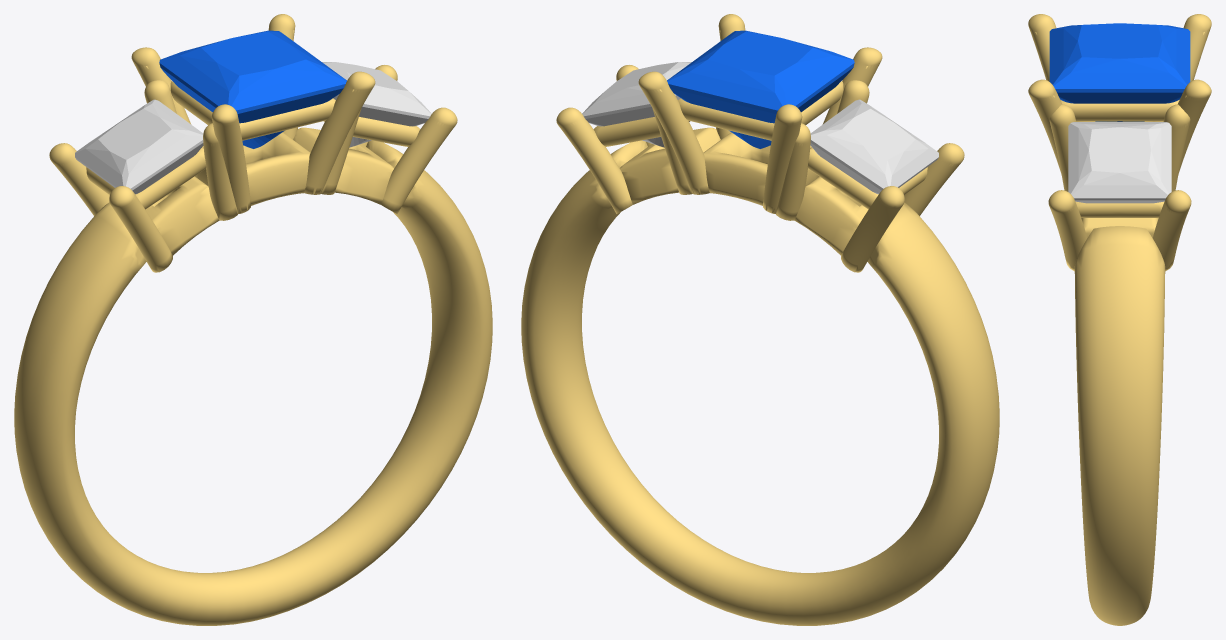
File: bluesapphire-princess-yellowgold-4prong-taperedband-3stone.glb
3 renders of one model, left to right at view 1: azimuth 30°, elevation 25°; view 2: azimuth 150°, elevation 25°; view 3: azimuth 270°, elevation 25°, orthographic.
Visible parts, largest first — view 1: metal, stone, side, side.001; view 2: metal, stone, side, side.001; view 3: metal, stone, side.001.
Part boxes in pixels (x1,y1,x2,y2): metal: (14,14,492,625); stone: (159,30,346,148); side: (75,99,203,194); side.001: (322,62,431,147); metal: (521,14,999,625); stone: (667,30,854,148); side: (810,99,938,194); side.001: (582,62,691,147); metal: (1028,14,1211,625); stone: (1049,23,1190,121); side.001: (1068,122,1171,203).
Size of the model in its own units: 20.49 by 23.84 by 7.08.
